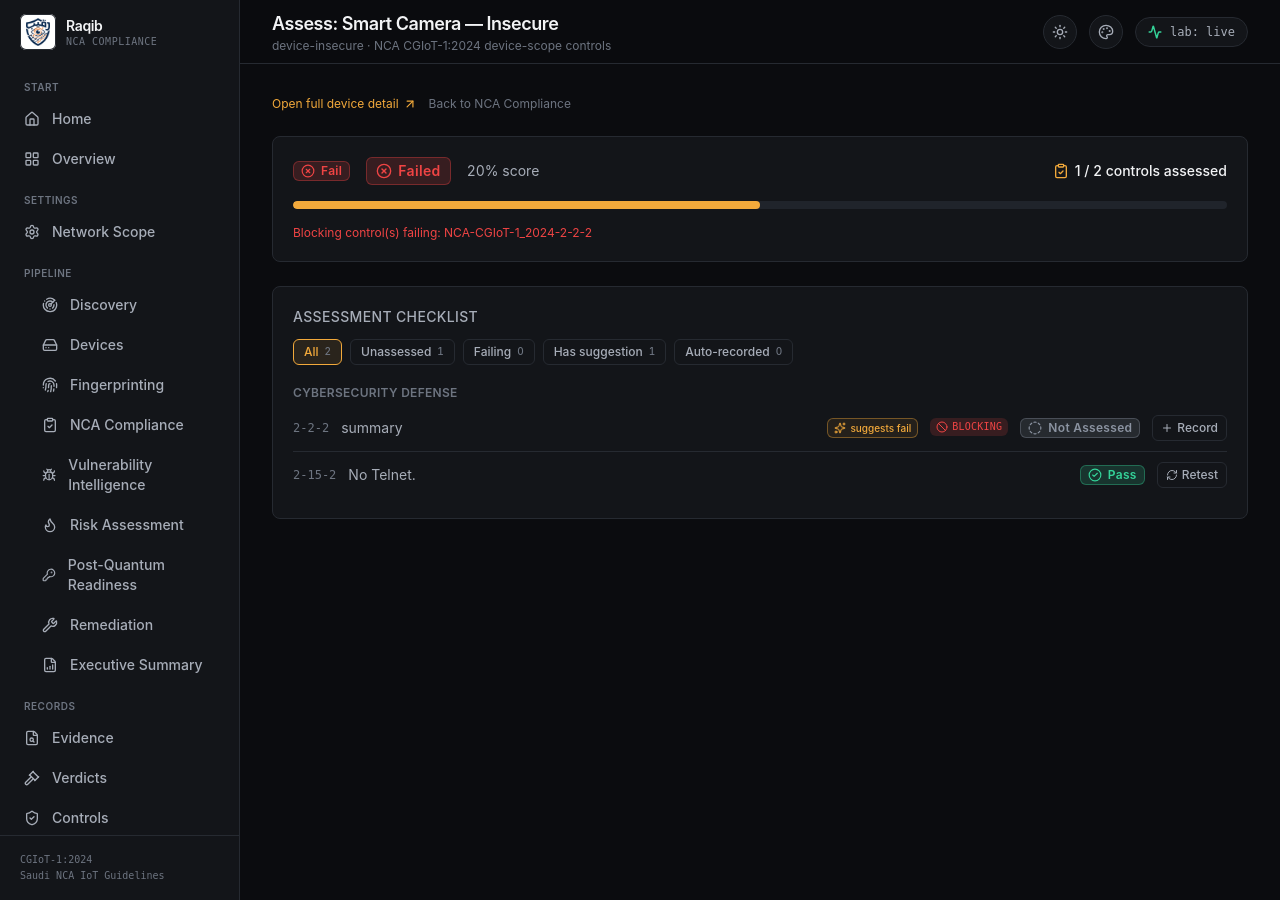
it: DeviceAssessmentPage › opens the record dialog pre-filled from the suggestion when Record is clicked
expect the text "1 / 2 controls assessed" is shown: met, box top-left (1053, 161), bottom-right (1227, 181)
Click the button "Record": (1190, 428) top-left (1152, 415), bottom-right (1227, 441)
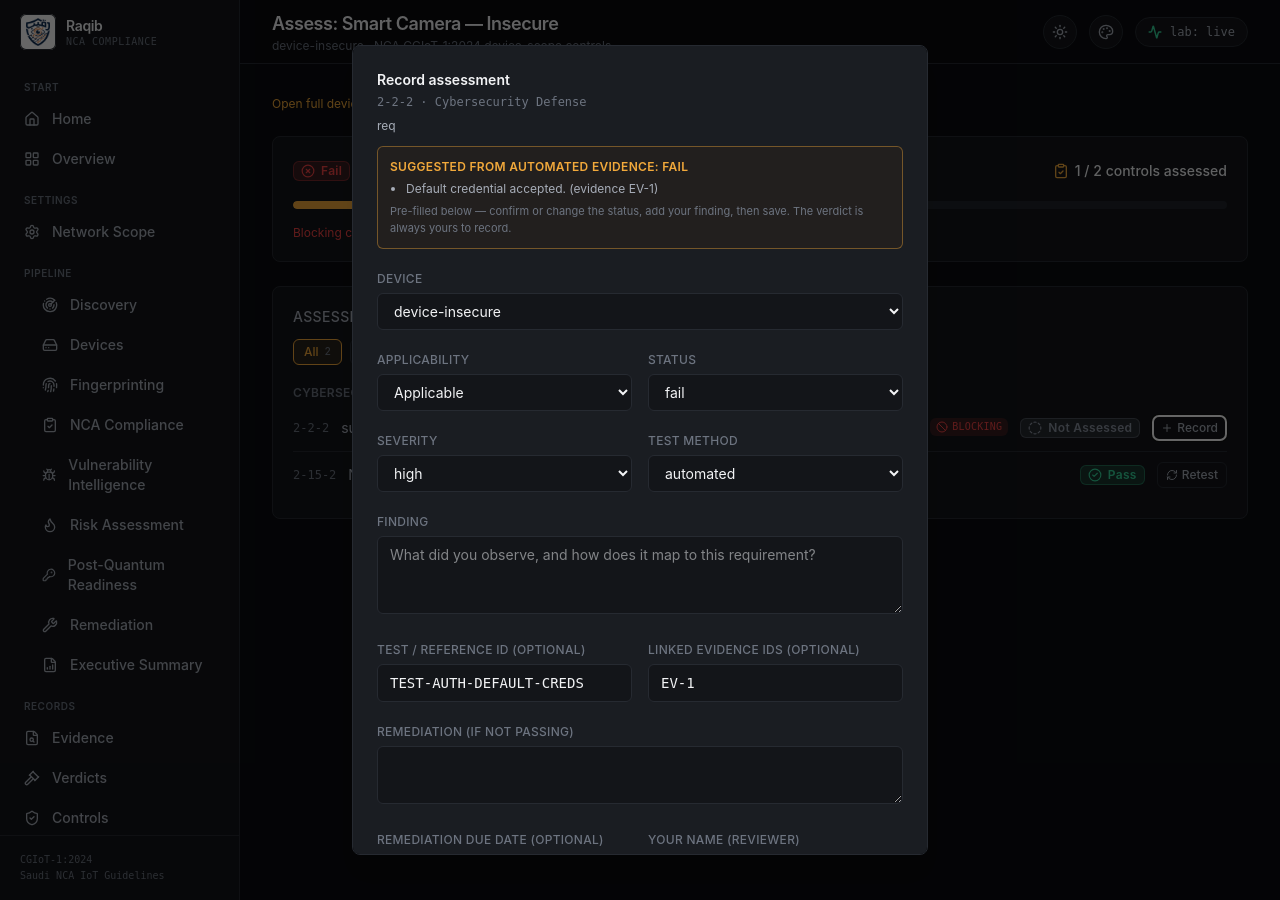
expect the text "Suggested from automated evidence: fail" is shown: met, box top-left (390, 159), bottom-right (688, 174)
expect the dropdown labelled "Status" shows "fail": met, box top-left (648, 374), bottom-right (903, 411)
